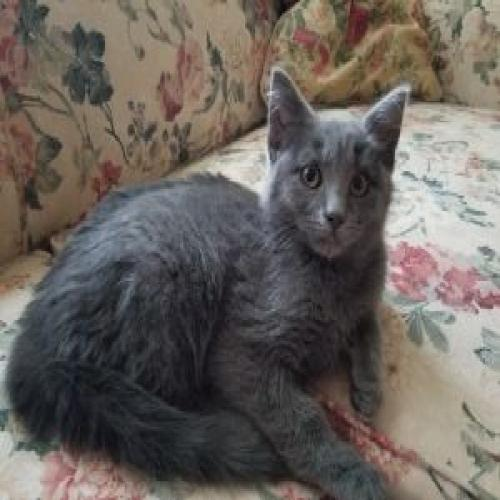rblue: (260, 51, 414, 270)
